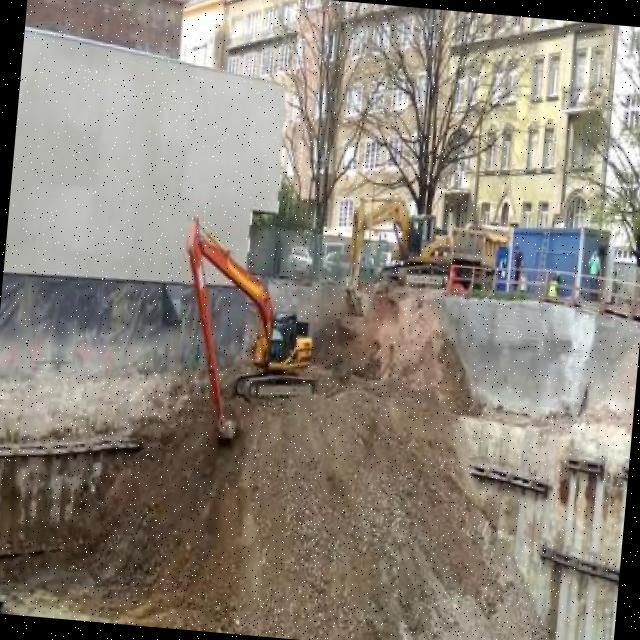Dump Truck: (443, 188, 514, 302)
Excavator: (166, 206, 332, 457), (342, 174, 458, 340)
